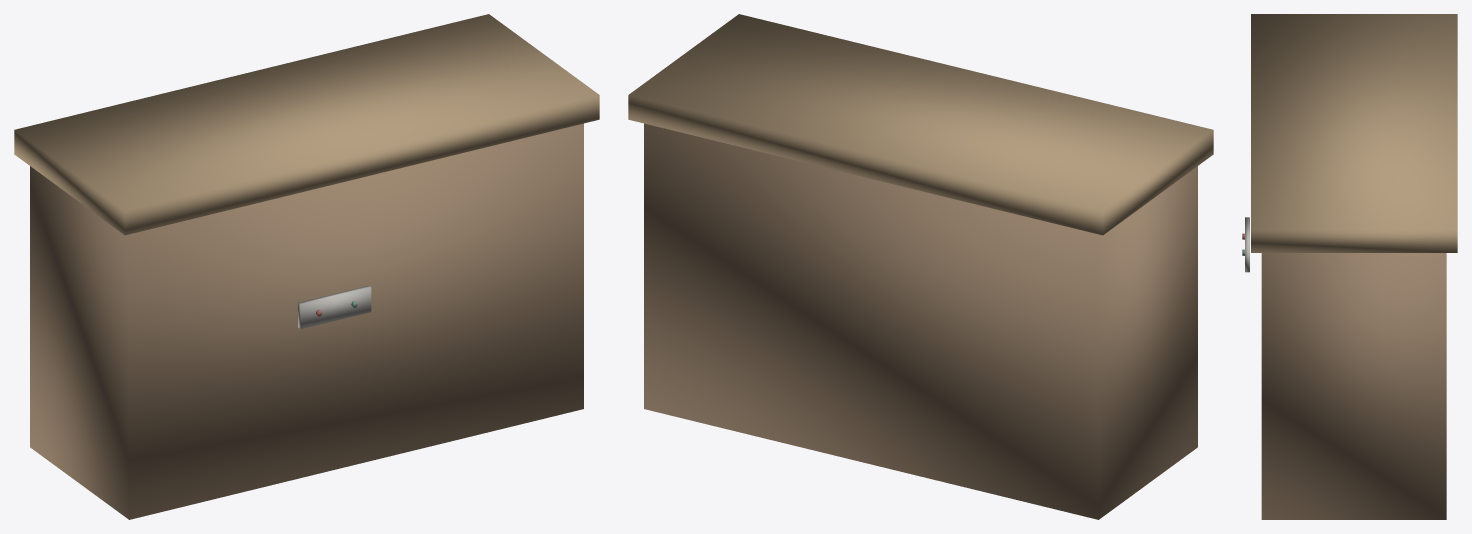
File: host_stand__tall.glb
The picture shows the model from 3 angles, left to right: view 1: azimuth 30°, elevation 25°; view 2: azimuth 150°, elevation 25°; view 3: azimuth 270°, elevation 25°; orthographic projection. The views are drawn at different scales.
Parts seen in each view (by area): view 1: world; view 2: world; view 3: world.
Boxes of the visible parts, x1,y1,x2,y2 form: world: (14,14,599,519); world: (628,14,1213,519); world: (1242,14,1457,519).
Bounding box in the file's own units: 1.88 × 1.19 × 0.791.
